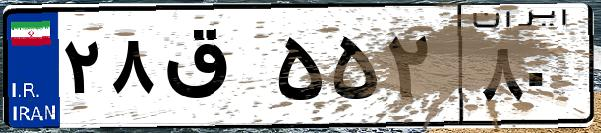0: (525, 38, 570, 115)
2: (385, 28, 445, 110), (57, 26, 110, 100)
5: (270, 28, 330, 110), (330, 28, 385, 110)
8: (475, 38, 525, 113), (110, 28, 158, 98)
ق: (158, 20, 270, 120)
